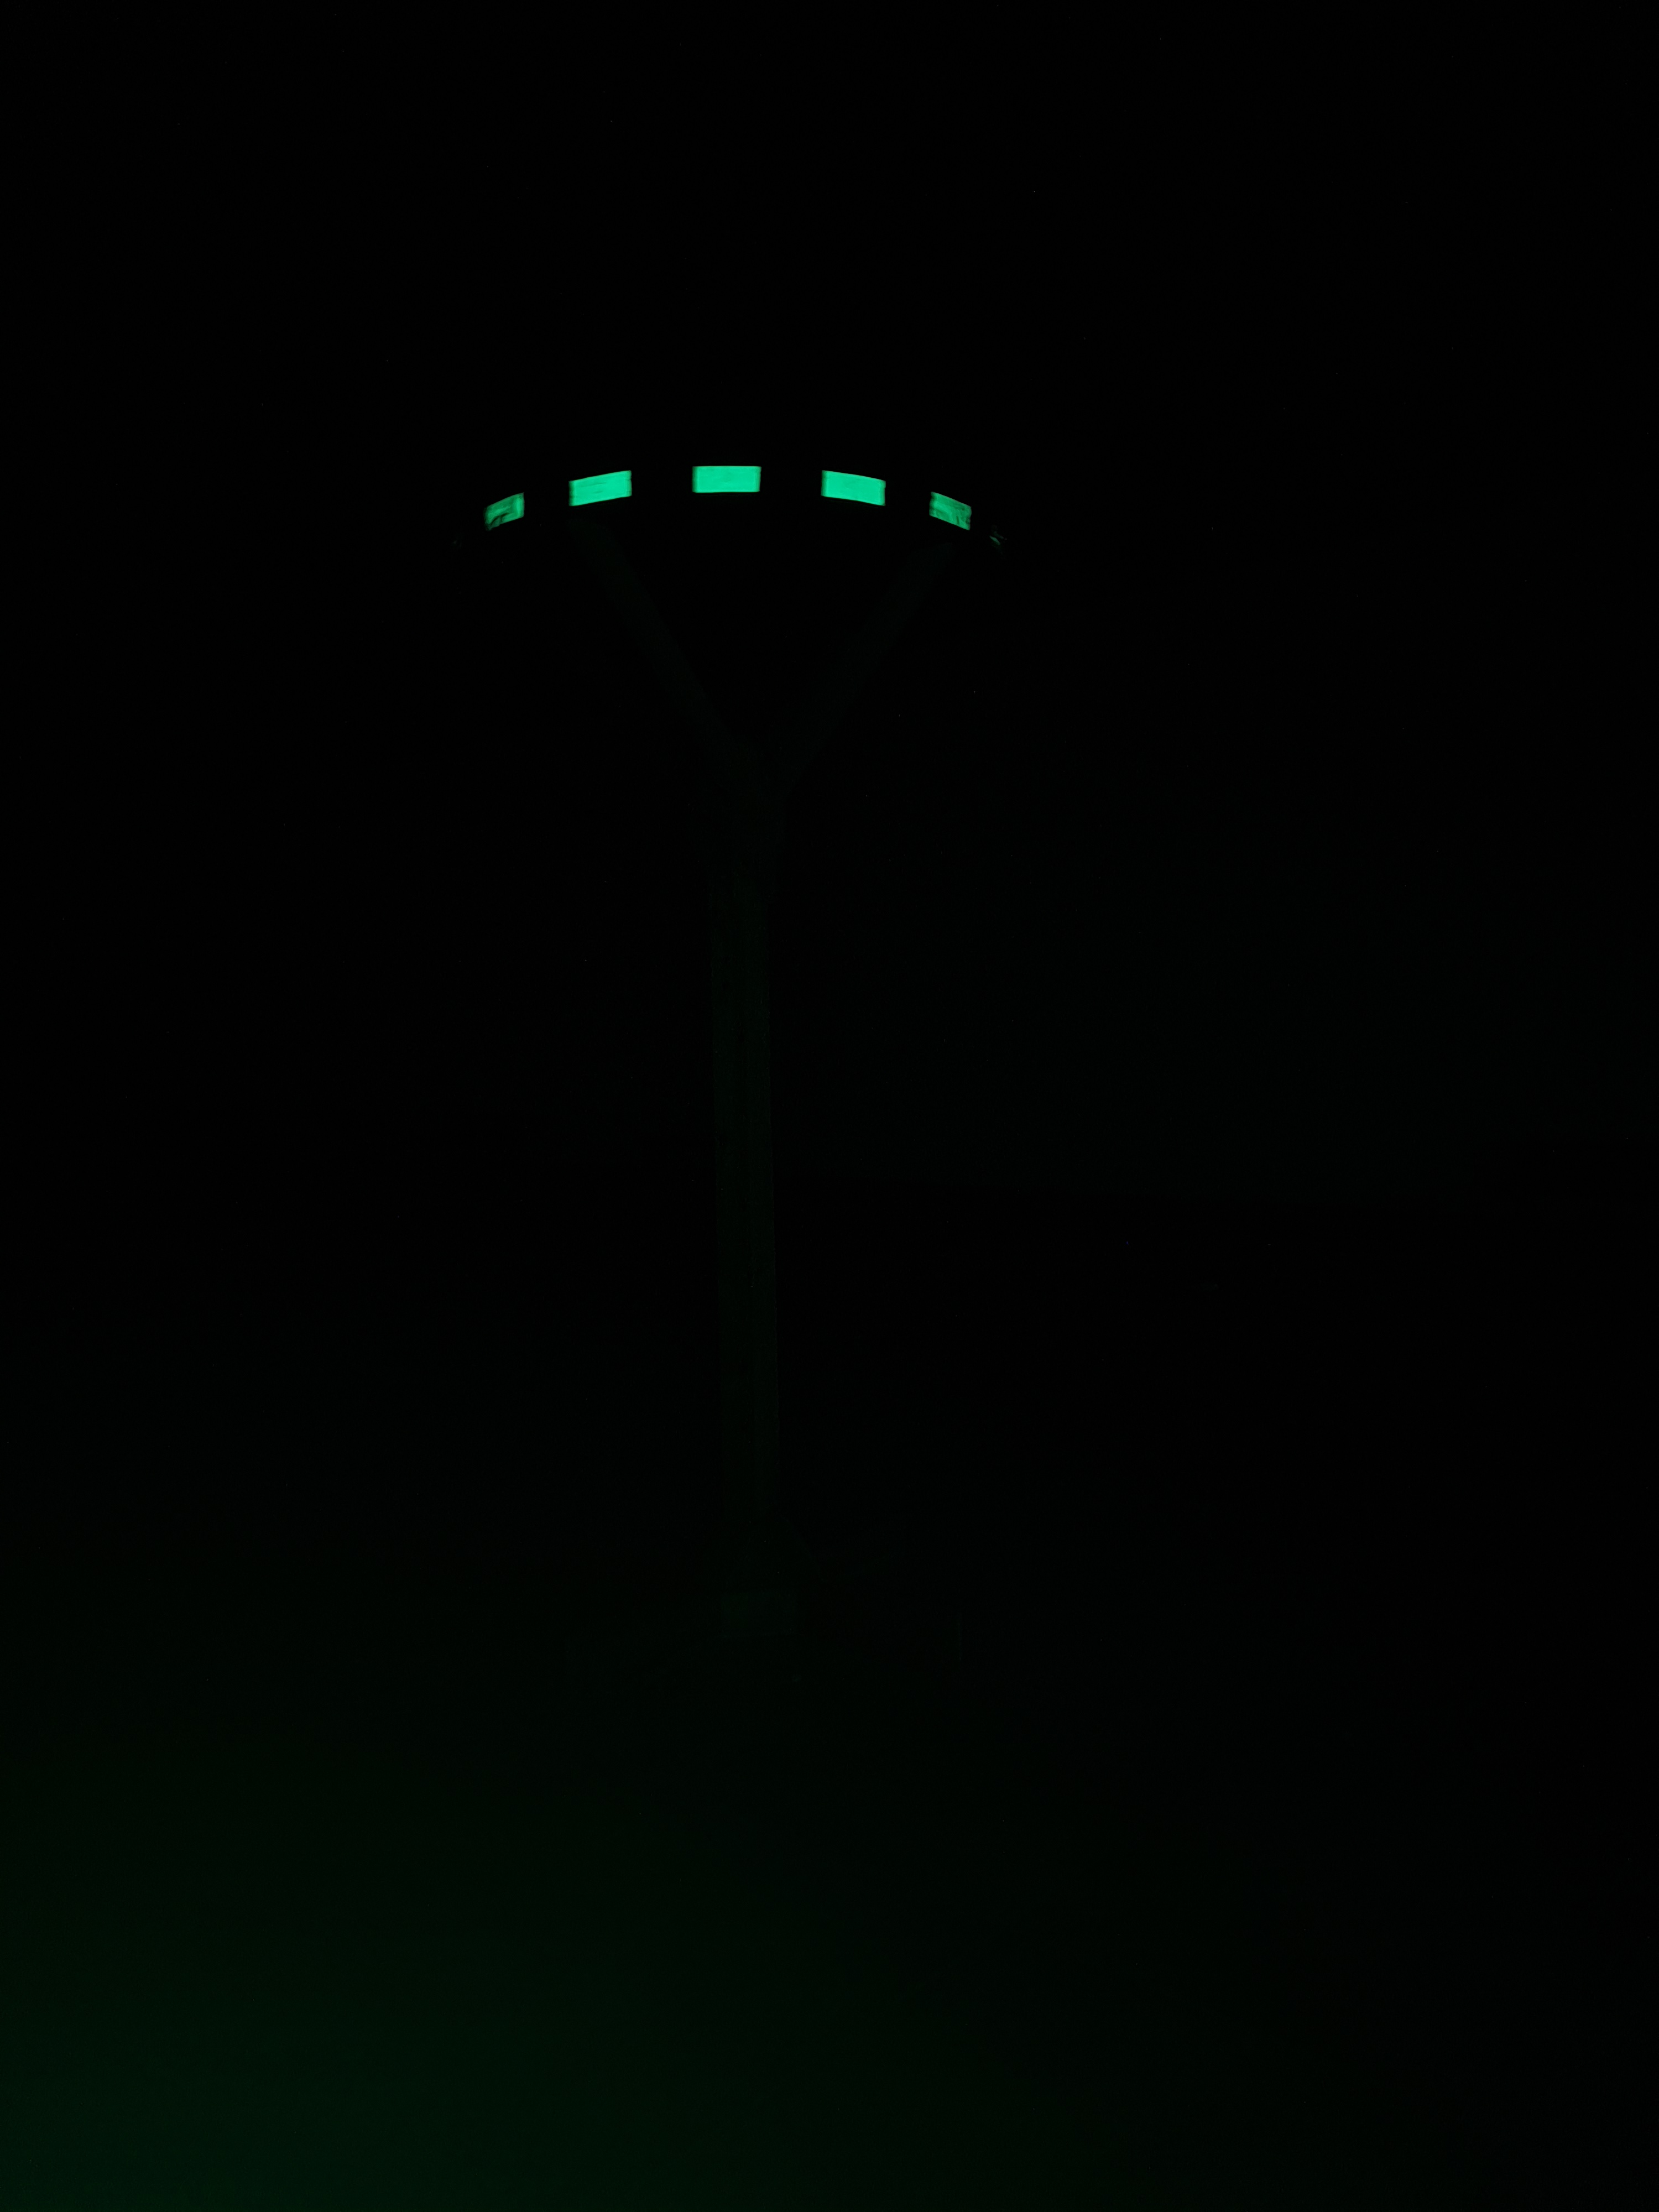hoop: (490, 462, 972, 536)
